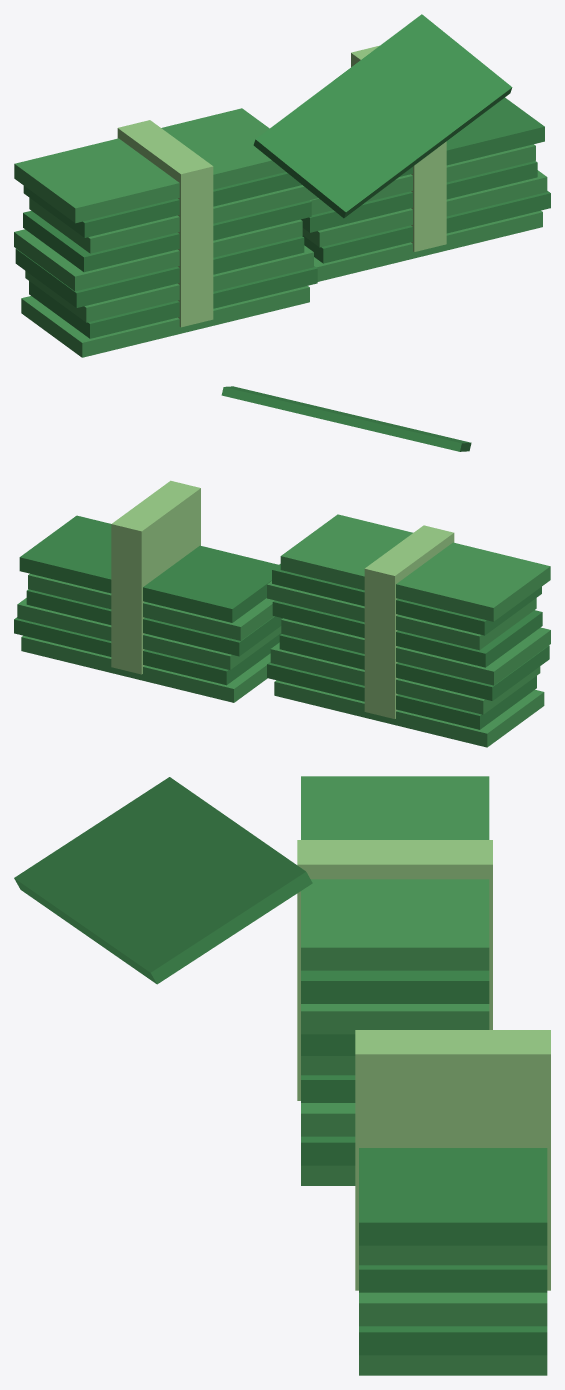
Rendered from billetes.glb.
The picture shows the model from 3 angles, top to bottom: view 1: azimuth 30°, elevation 25°; view 2: azimuth 150°, elevation 25°; view 3: azimuth 270°, elevation 25°; orthographic projection. The views are drawn at different scales.
Parts seen in each view (by area): view 1: Cube.017, Cube.008, Cube.009, Cube, Cube.004, Cube.005, Cube.003, Cube.001, Cube.006, Cube.002, Cube.015, Cube.007 (+6 smaller); view 2: Cube.008, Cube.015, Cube.016, Cube.009, Cube, Cube.004, Cube.005, Cube.010, Cube.003, Cube.014, Cube.001, Cube.011 (+6 smaller); view 3: Cube.017, Cube.008, Cube.016, Cube.015, Cube.009, Cube.012, Cube.007, Cube.011, Cube.013, Cube.006, Cube.010, Cube.014 (+6 smaller).
Boxes of the visible parts, x1,y1,x2,y2 form: Cube.017: (253,14,512,218); Cube.008: (14,108,285,223); Cube.009: (117,120,213,327); Cube: (21,286,309,357); Cube.004: (14,219,302,291); Cube.005: (23,200,311,272); Cube.003: (15,236,304,307); Cube.001: (29,266,317,338); Cube.006: (29,185,317,253); Cube.002: (25,245,313,322); Cube.015: (399,97,544,176); Cube.007: (23,172,301,237); Cube.008: (280,514,550,621); Cube.015: (19,515,278,622); Cube.016: (111,480,200,674); Cube.009: (364,525,454,718); Cube: (274,680,544,747); Cube.004: (281,618,550,685); Cube.005: (272,600,542,667); Cube.010: (21,635,270,702); Cube.003: (279,634,549,700); Cube.014: (28,573,274,640); Cube.001: (267,662,536,729); Cube.011: (14,617,281,685); Cube.017: (14,777,312,984); Cube.008: (301,776,489,970); Cube.016: (355,1030,550,1290); Cube.015: (359,1148,547,1245); Cube.009: (297,840,492,1100); Cube.012: (359,1292,547,1326); Cube.007: (301,970,489,1003); Cube.011: (359,1326,547,1355); Cube.013: (359,1265,547,1292); Cube.006: (301,1004,489,1034); Cube.010: (359,1355,547,1375); Cube.014: (359,1245,547,1265).
Bounding box in the file's own units: 1.22 × 0.6092 × 0.7413.
